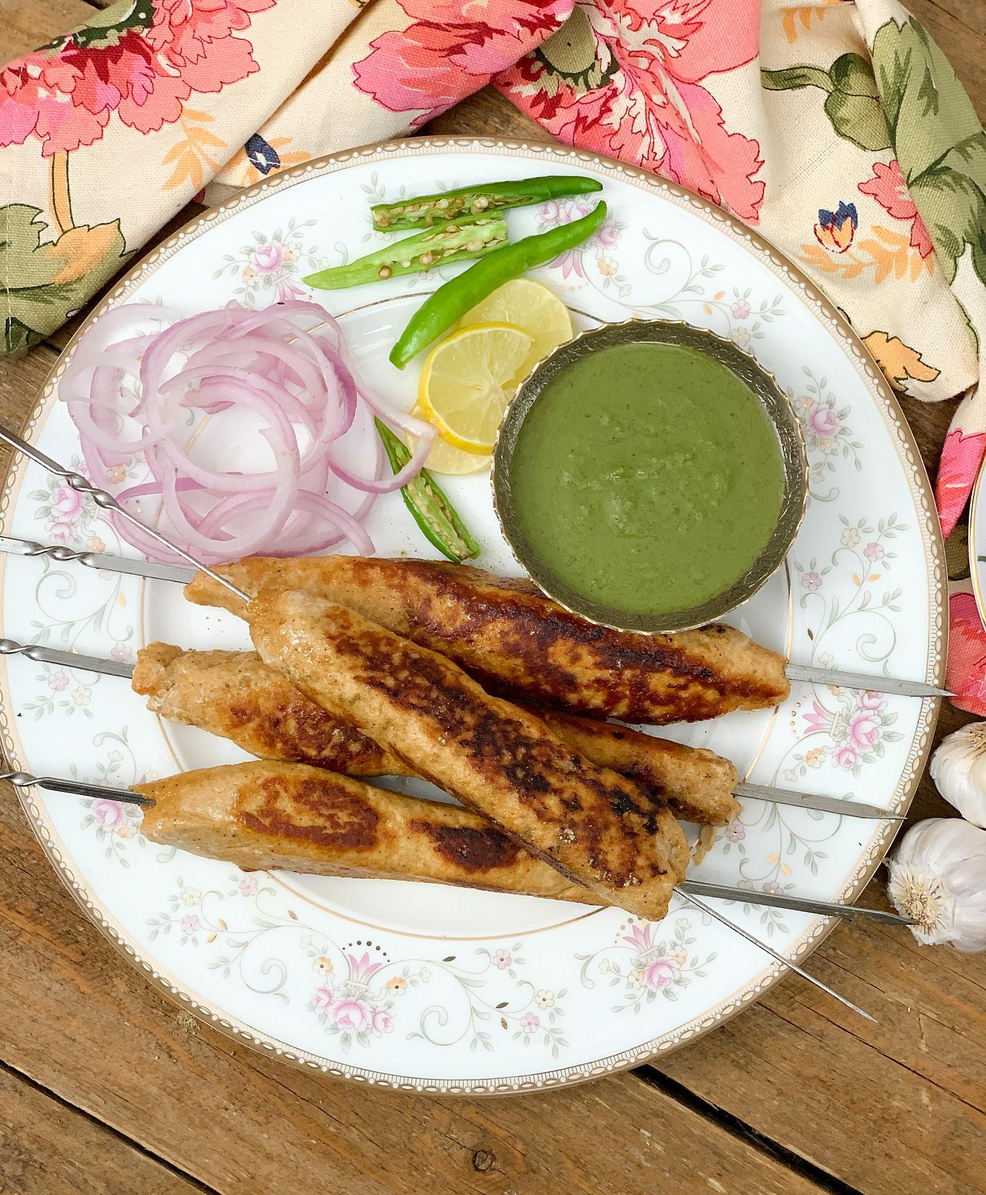GreenChutney: (516, 343, 786, 616)
Kebab: (247, 591, 688, 920), (132, 643, 740, 822), (190, 555, 792, 725), (126, 763, 685, 908)
